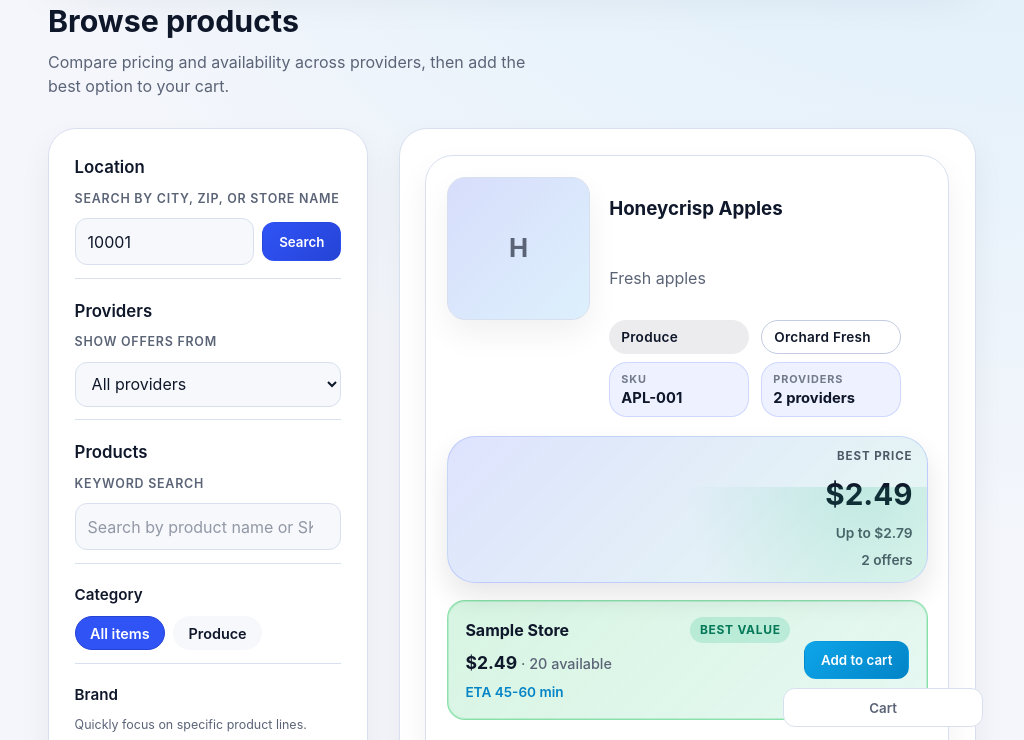
App › filters offers by selected provider
(page scrolled)
Select "Uptown Market" in the dropdown labelled "Show offers from" at point(208, 384), box [75,362,341,407]
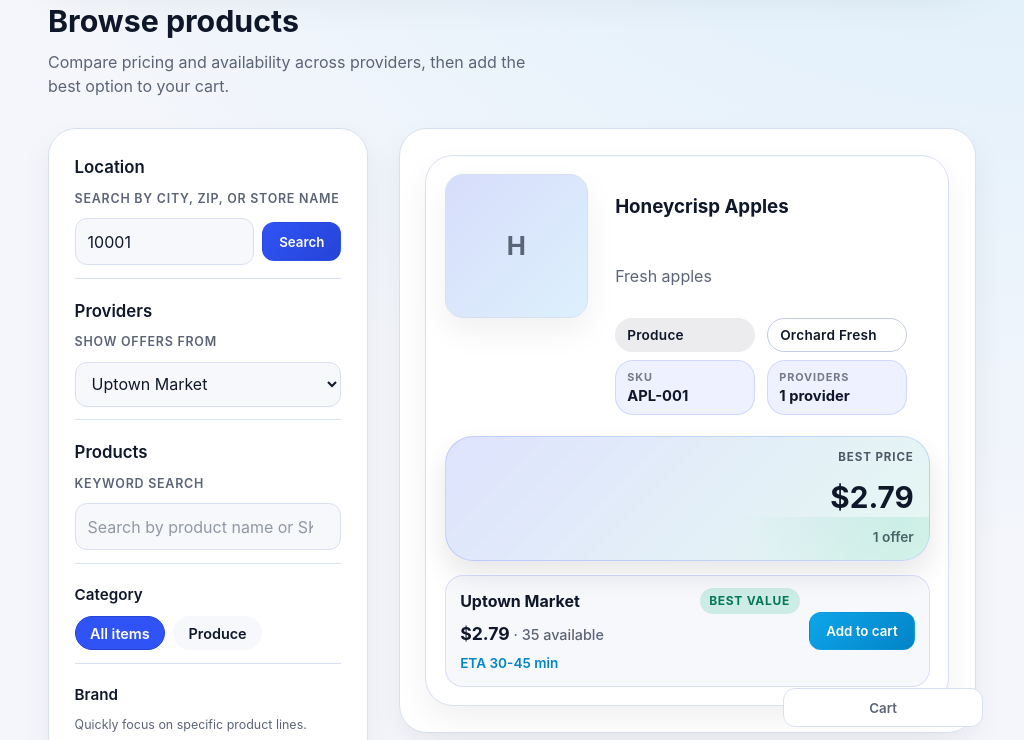
Expected: the button with aria-label "add honeycrisp apples from uptown market to cart" is shown, [809,612,915,650]
Expected: the text "1 provider" is shown, [779,387,850,405]
Select "All providers" in the dropdown labelled "Show offers from" at point(208, 384), box [75,362,341,407]
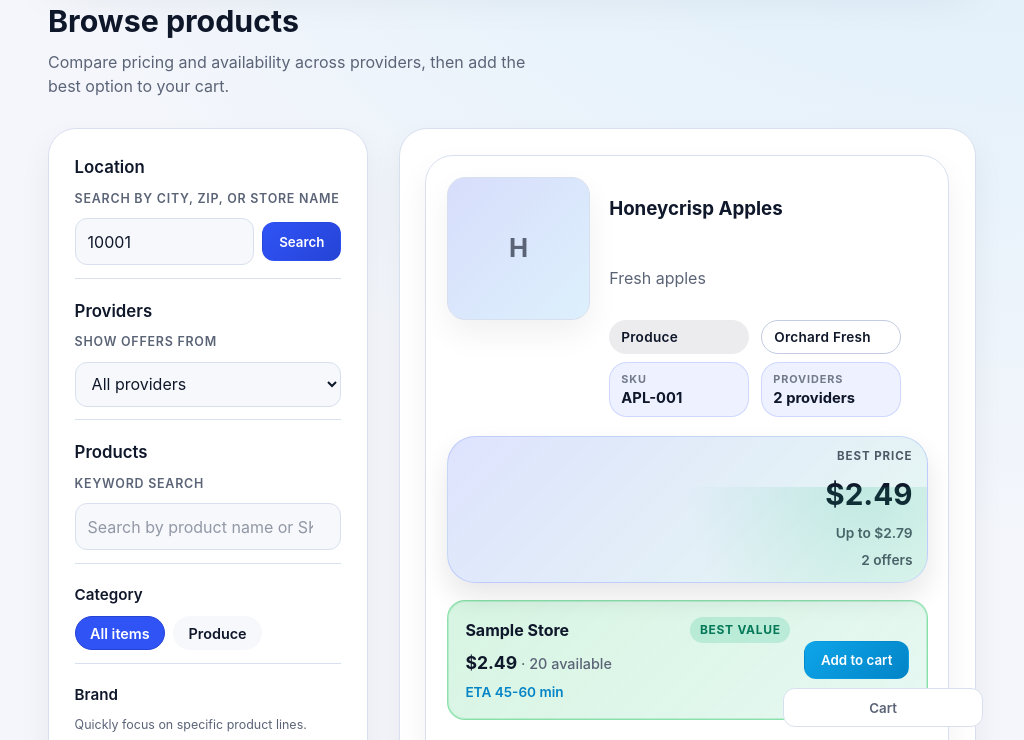
Expected: the button with aria-label "add honeycrisp apples from sample store to cart" is shown, [804,641,909,679]
